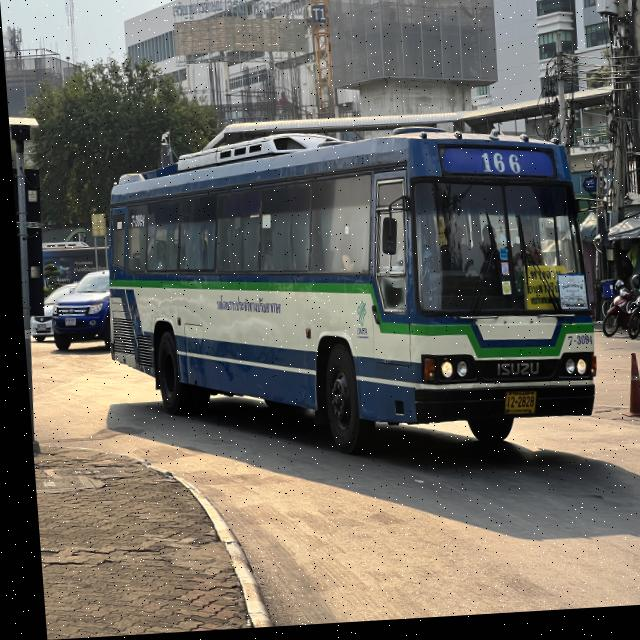BMTA-bus: (91, 129, 597, 472)
Bus-Line-Number: (473, 150, 521, 188)
Destination-Sign-Normal-Expressway: (516, 268, 568, 317)
